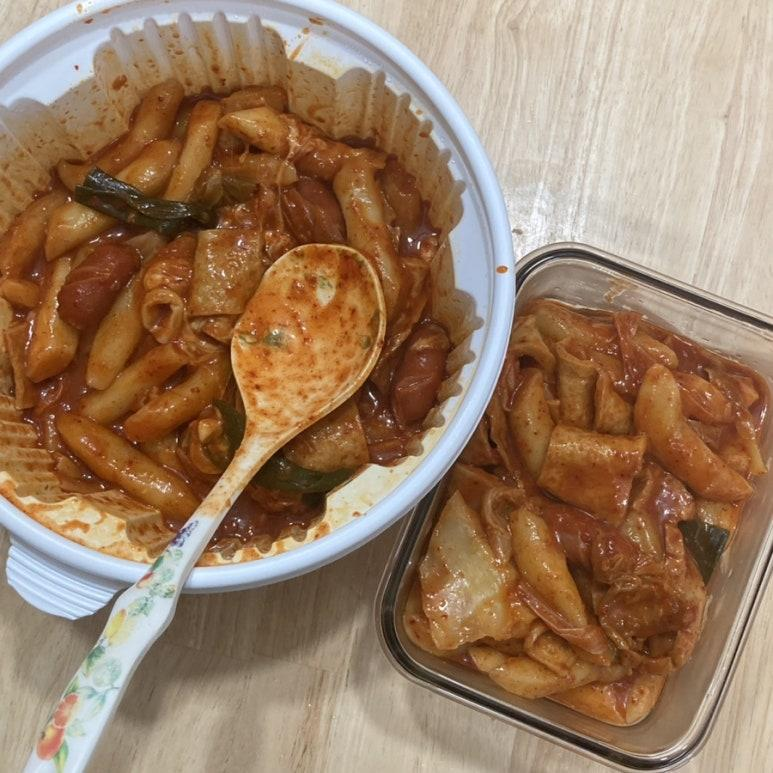Lunch Box: (0, 0, 514, 664), (379, 244, 772, 770)
